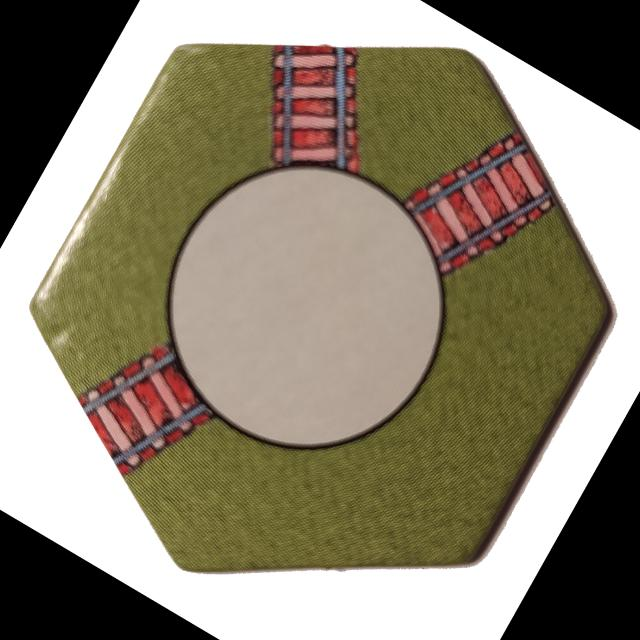14_1: (29, 43, 614, 571)
